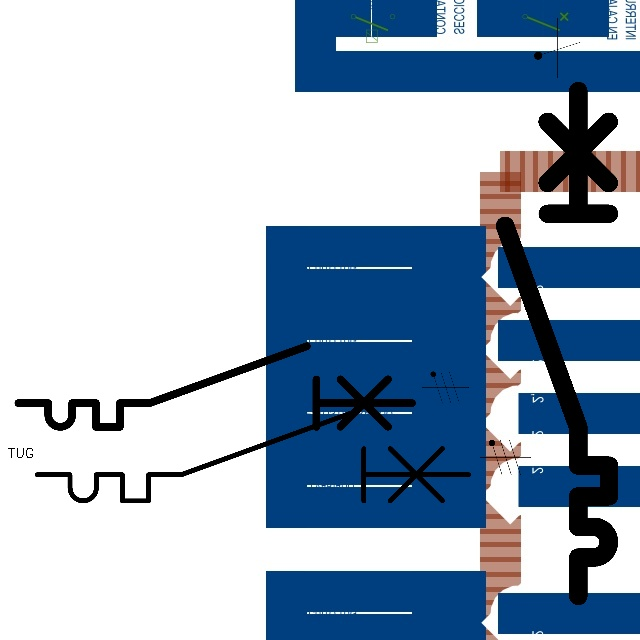interruptor_termomagnetico: (492, 78, 622, 609), (26, 401, 479, 512), (8, 336, 422, 437)
